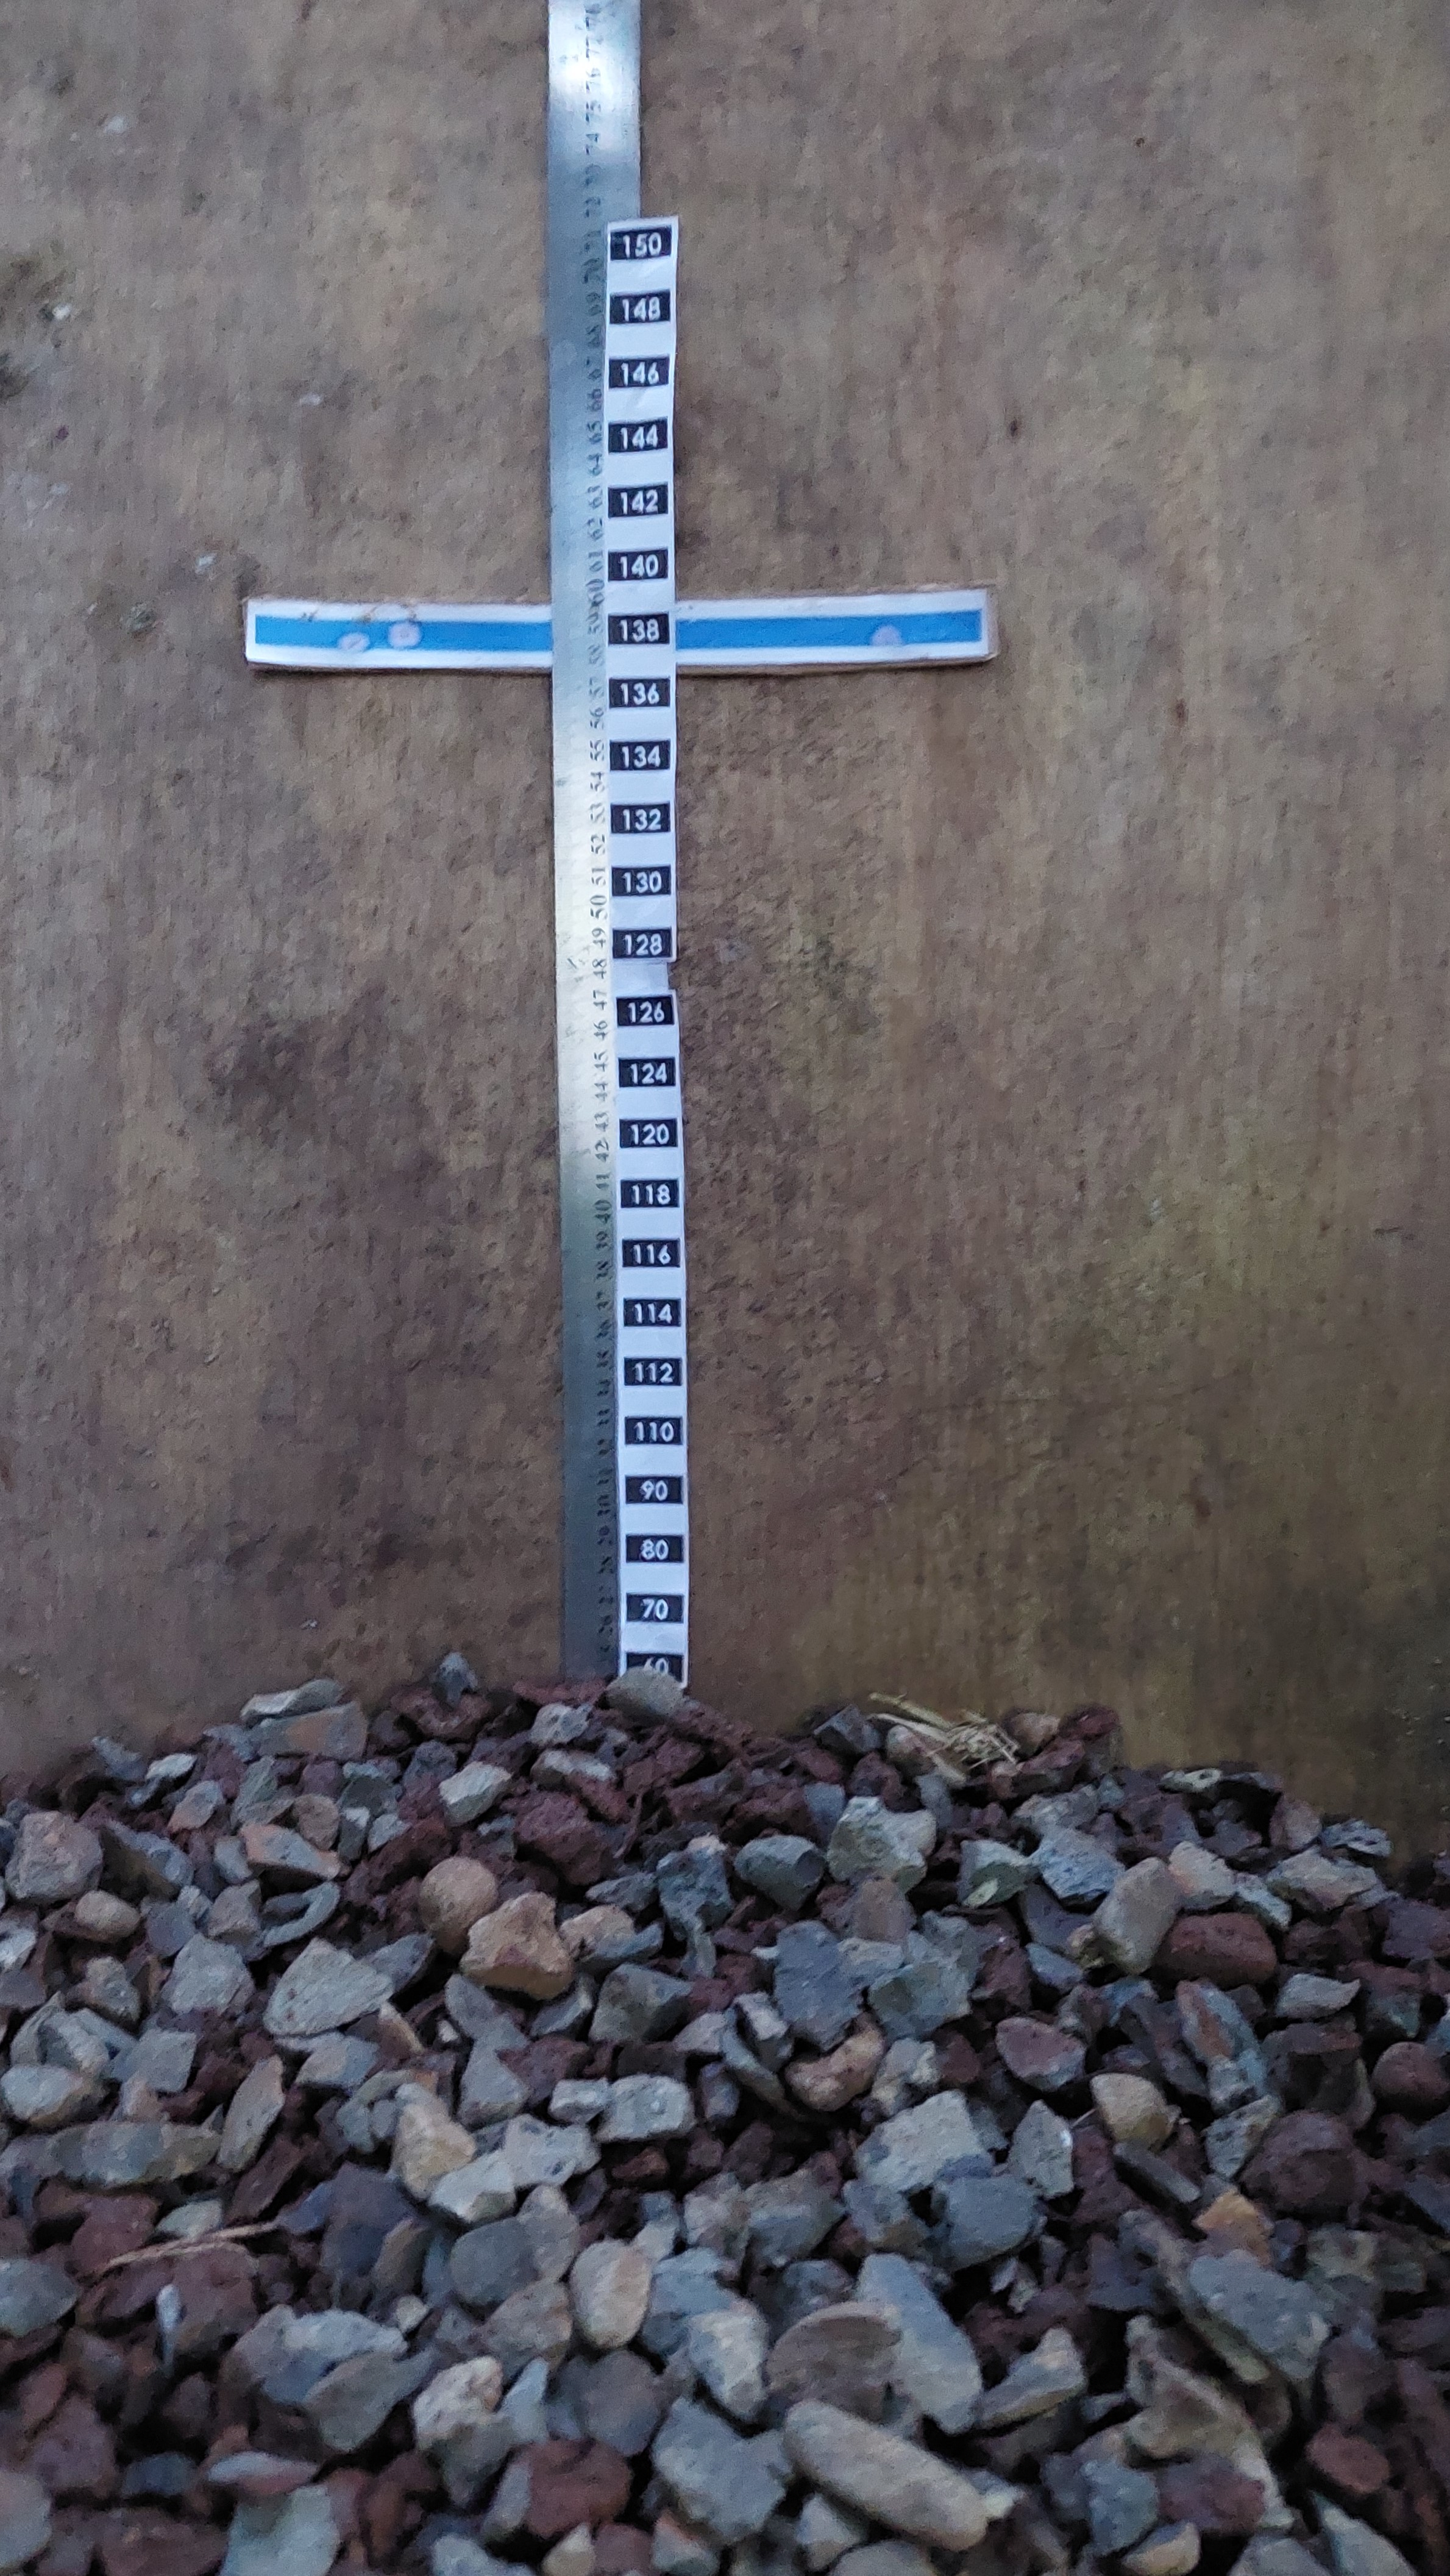kotak_2x1: (605, 545, 672, 587), (621, 1468, 688, 1511), (607, 285, 675, 326), (605, 350, 674, 391), (605, 479, 674, 520), (607, 223, 677, 262), (605, 674, 675, 713), (617, 1235, 688, 1274), (607, 609, 674, 649), (612, 991, 679, 1031), (610, 860, 674, 902), (607, 736, 675, 775), (617, 1292, 686, 1330), (608, 798, 674, 839), (614, 1175, 684, 1212), (605, 416, 672, 455), (621, 1412, 688, 1451), (615, 1115, 684, 1152), (610, 924, 675, 962), (614, 1051, 679, 1090), (621, 1352, 686, 1391), (622, 1529, 686, 1568), (622, 1591, 686, 1628)
mal_biru_150: (249, 603, 994, 651)
